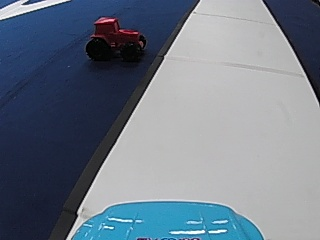tractor: (84, 14, 148, 62)
